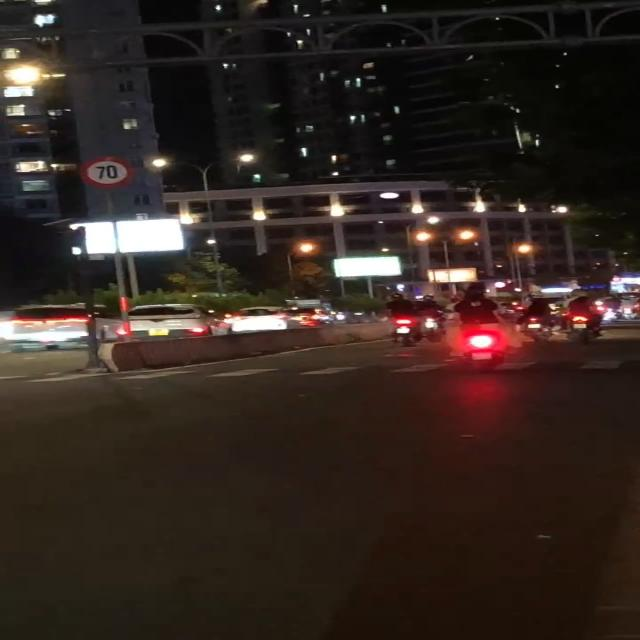Bien bao toc do toi da cho phep: (72, 154, 136, 189)
